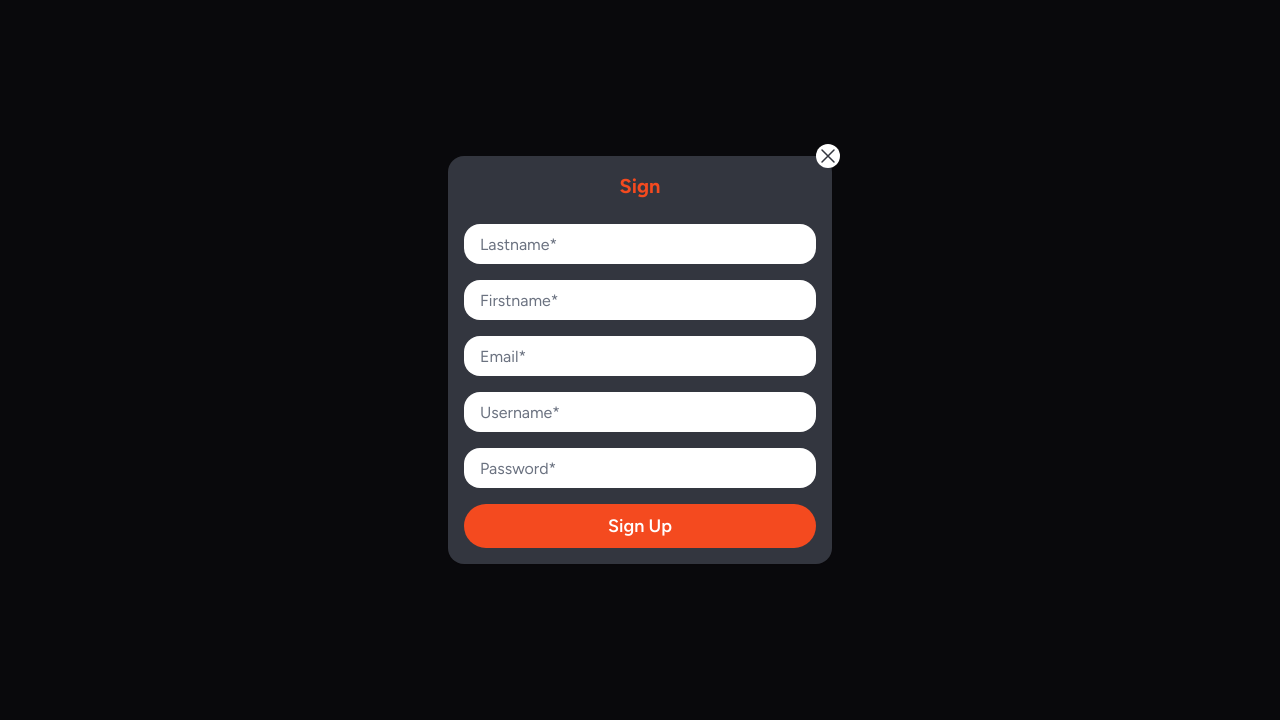
Sign up Modal › should enter invalid email. Return 400 Email is not valid
The width and height of the screenshot is (1280, 720).
In the field with placeholder "Lastname*": (640, 244) [464, 228, 816, 260], type "Bond"
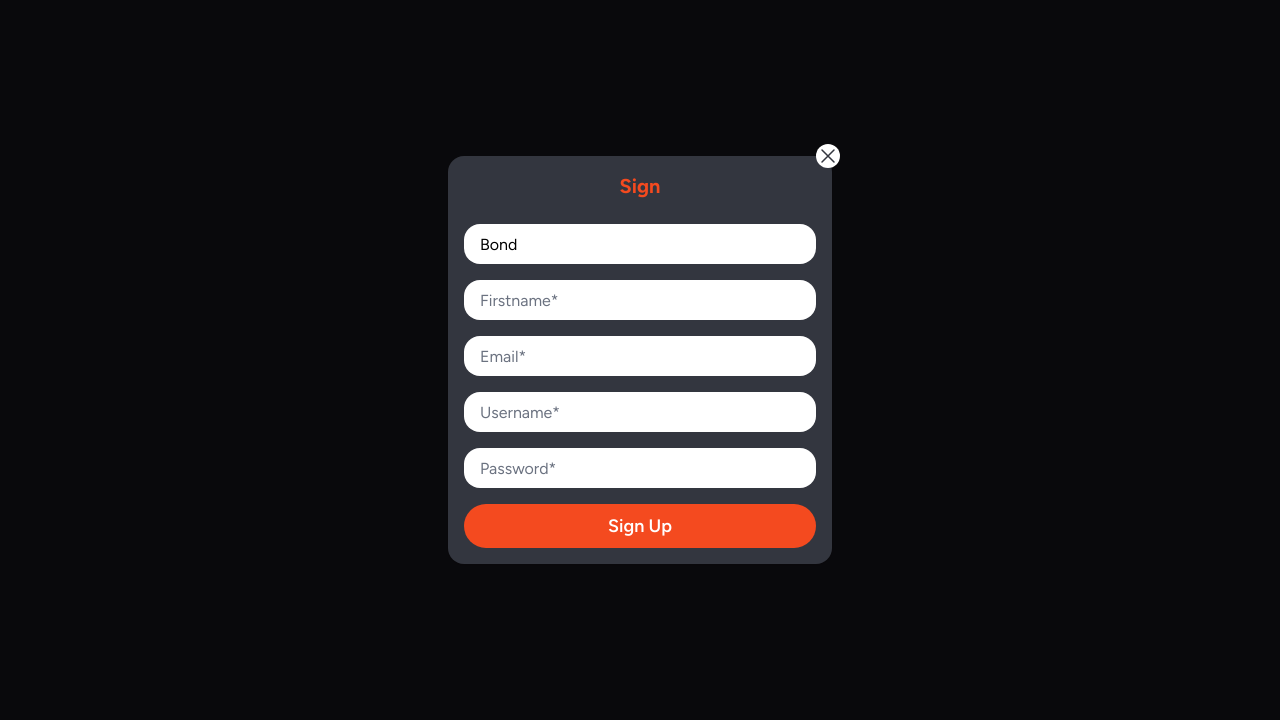
In the field with placeholder "Firstname*": (640, 300) [464, 284, 816, 316], type "James"
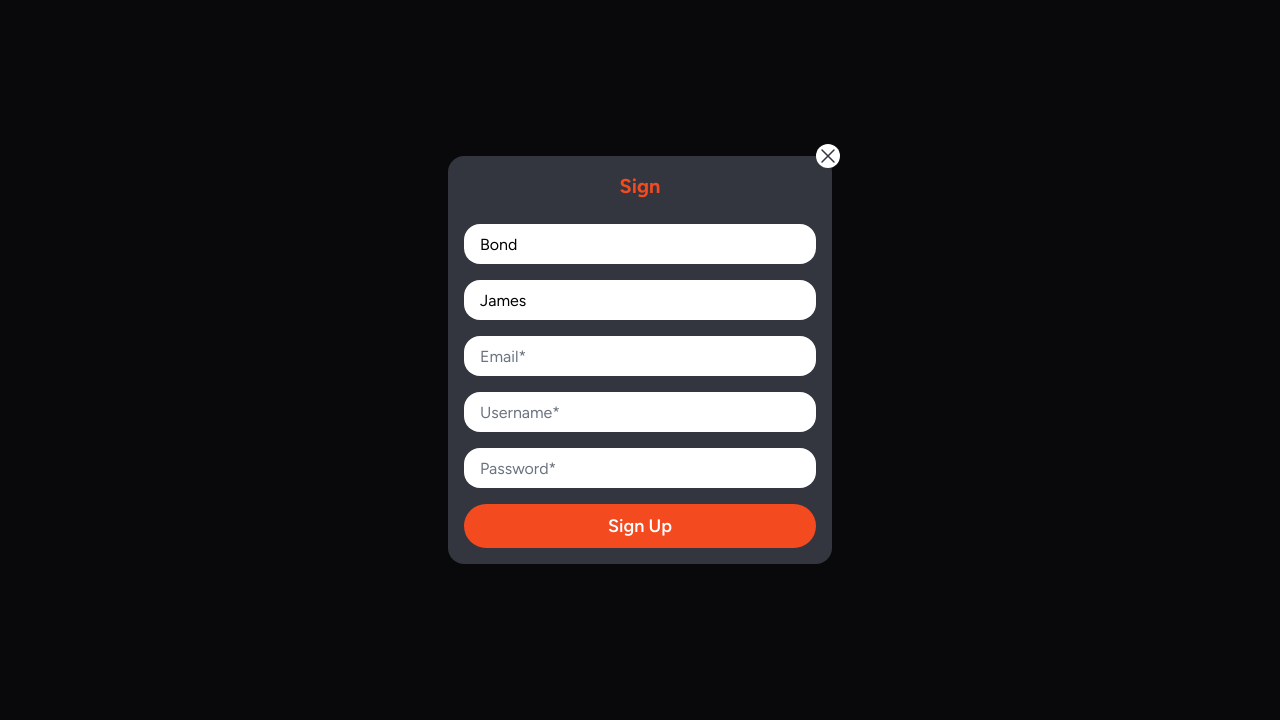
In the field with placeholder "Email*": (640, 356) [464, 340, 816, 372], type "email@"
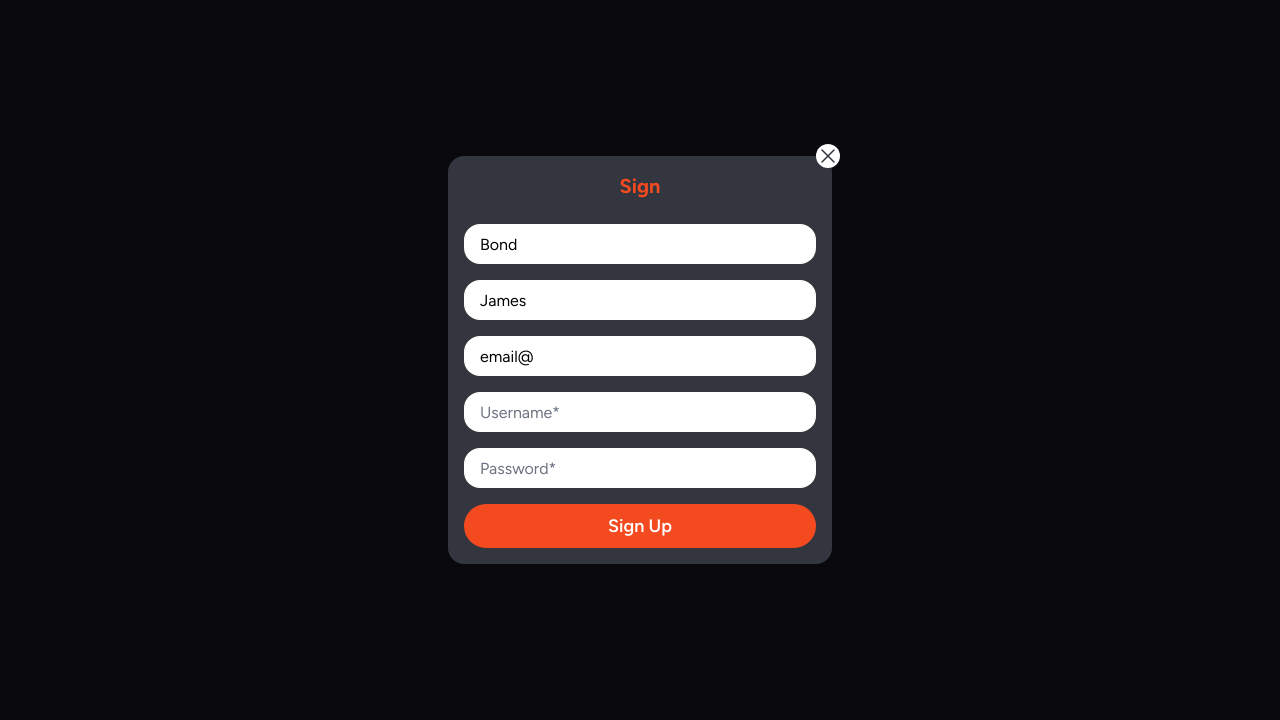
In the field with placeholder "Username*": (640, 412) [464, 396, 816, 428], type "test"
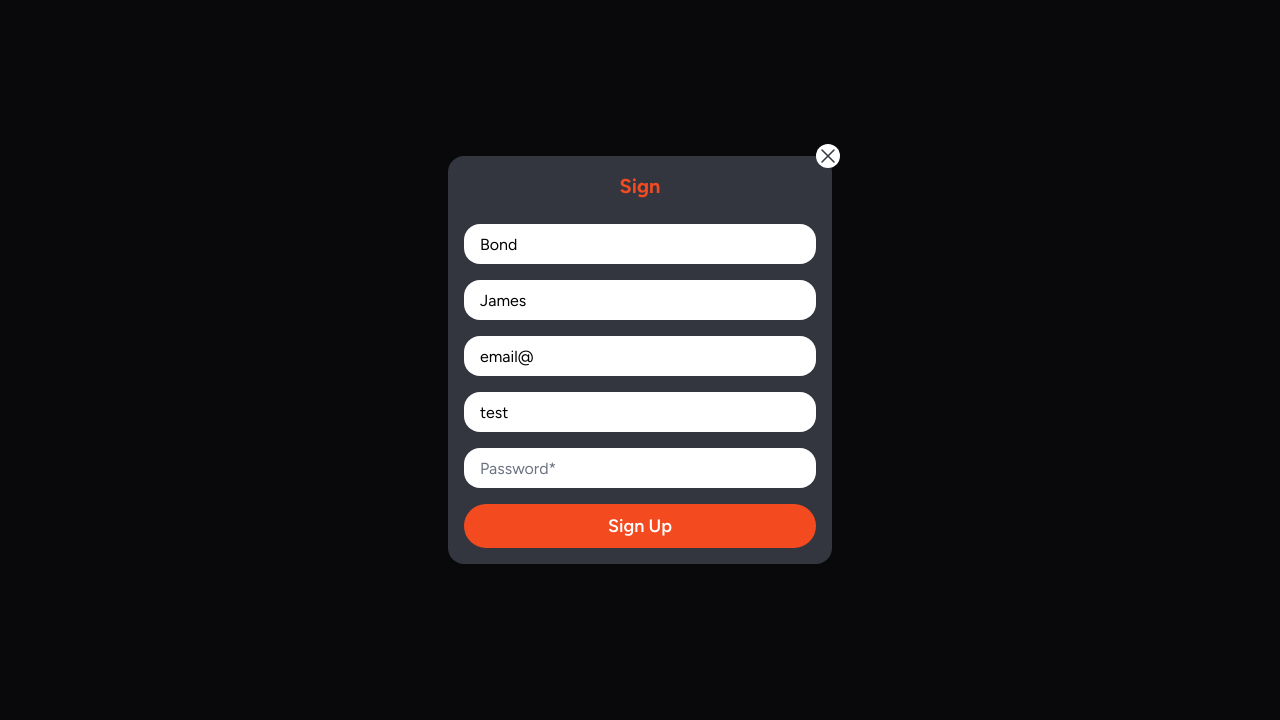
In the password field with placeholder "Password*": (640, 468) [464, 452, 816, 484], type "passowrd123"
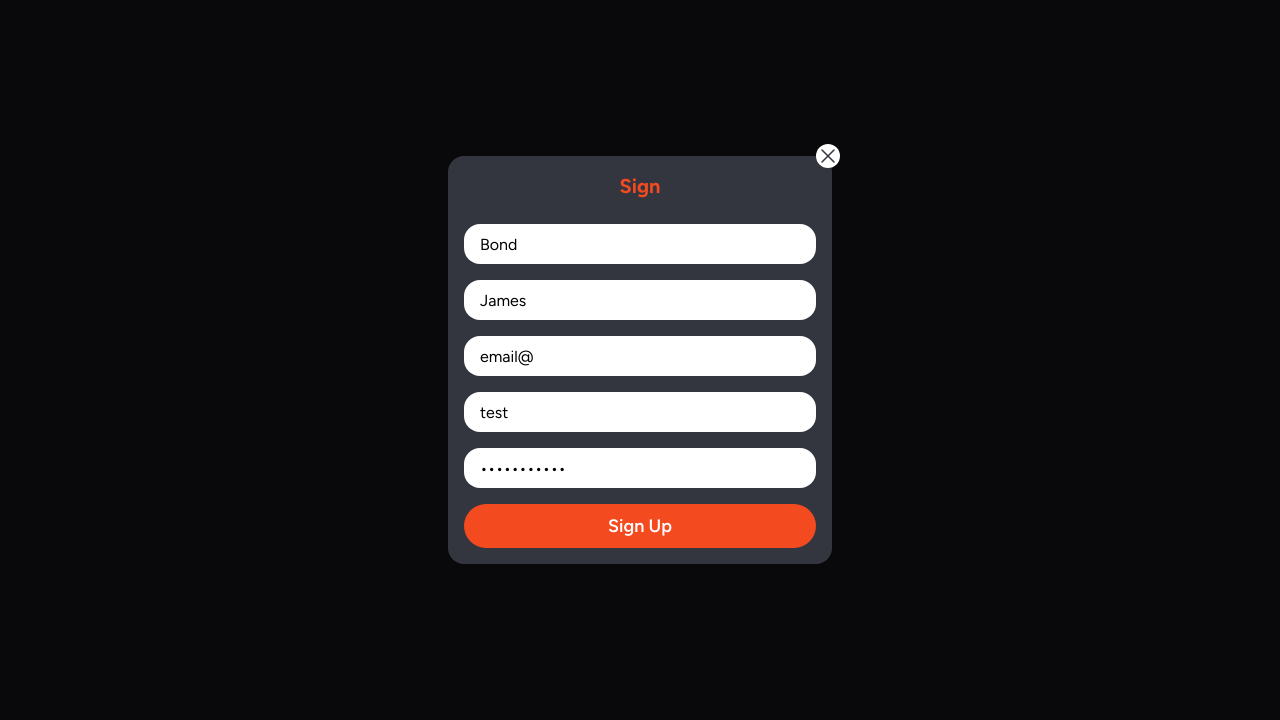
Click the button "Sign Up": (640, 526) [464, 504, 816, 548]
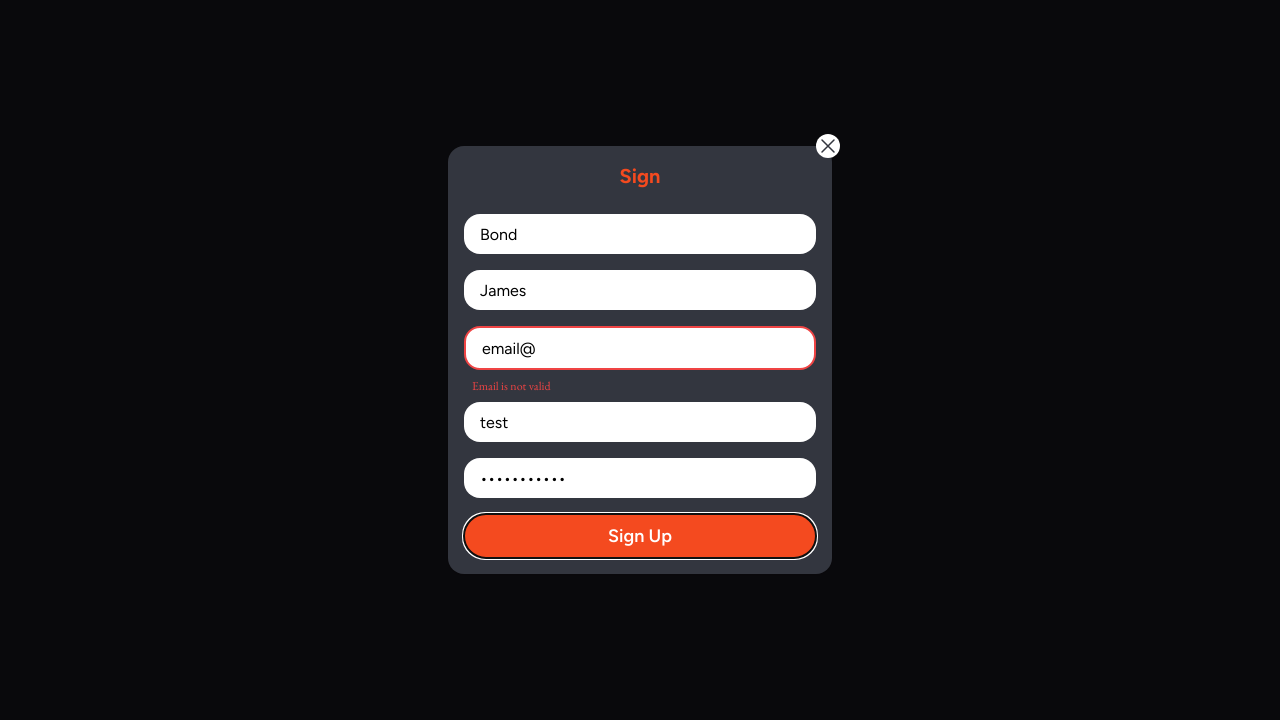
Expected: the text "Email is not valid" is shown, [472, 378, 550, 394]
